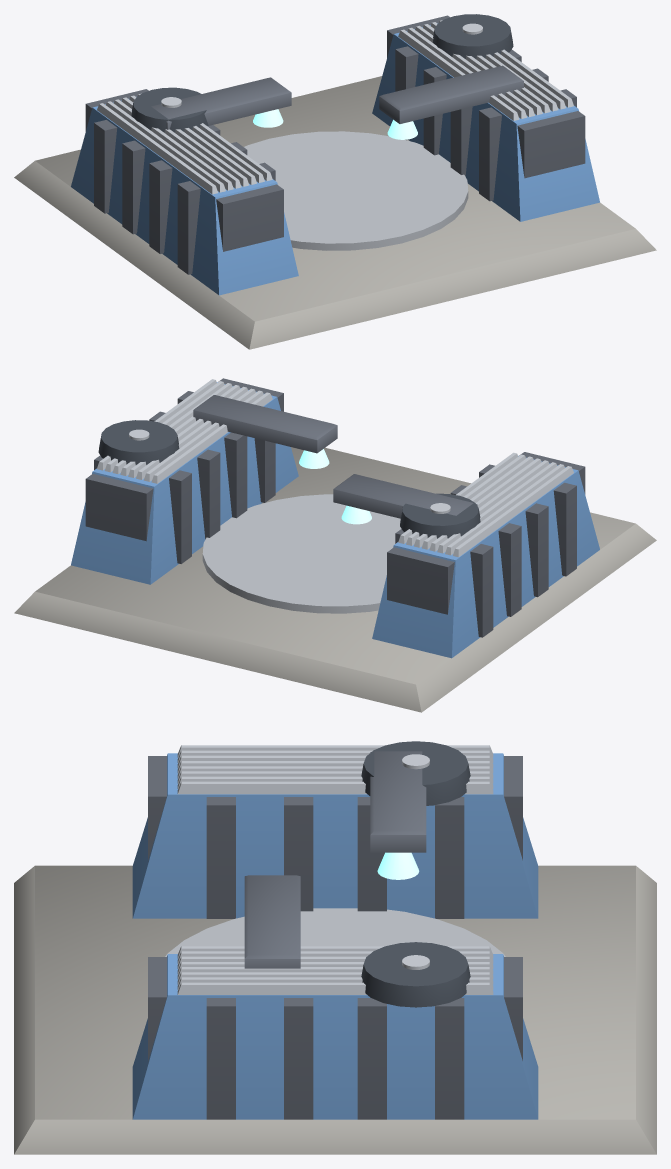
The model's file is gadept.glb.
3 renders of one model, top to bottom at view 1: azimuth 30°, elevation 25°; view 2: azimuth 150°, elevation 25°; view 3: azimuth 270°, elevation 25°, orthographic. The views are drawn at different scales.
Visible parts, largest first — view 1: Hull; view 2: Hull; view 3: Hull.
Boxes of the visible parts, x1,y1,x2,y2 form: Hull: [14, 14, 656, 349]; Hull: [14, 378, 656, 712]; Hull: [14, 741, 656, 1154].
Bounding box in the file's own units: 4.97 × 1.44 × 4.97.
